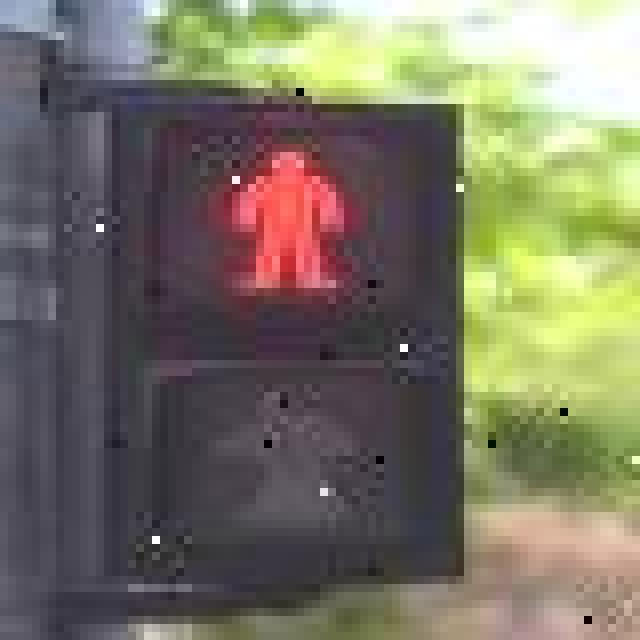redlight: (96, 96, 480, 608)
